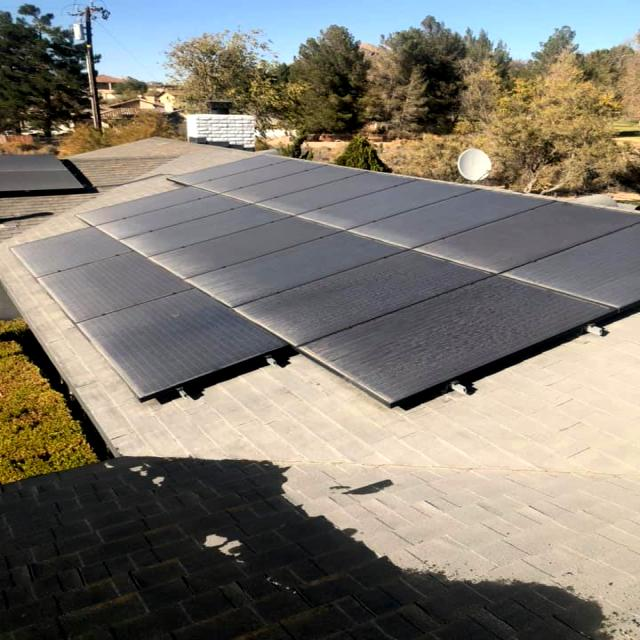dust: (318, 194, 606, 300), (273, 286, 485, 414), (142, 207, 286, 326), (183, 214, 291, 348), (67, 305, 196, 407), (0, 230, 114, 315), (174, 184, 332, 214)
